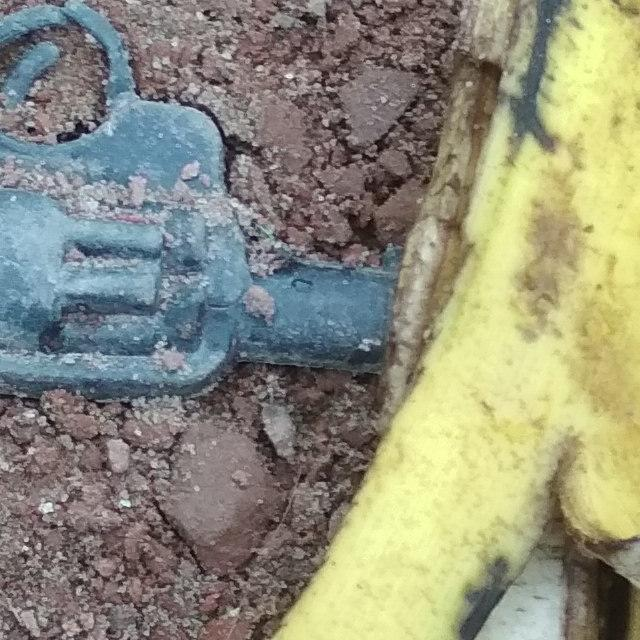food_waste: (0, 0, 640, 640)
plastic: (0, 0, 455, 438)
